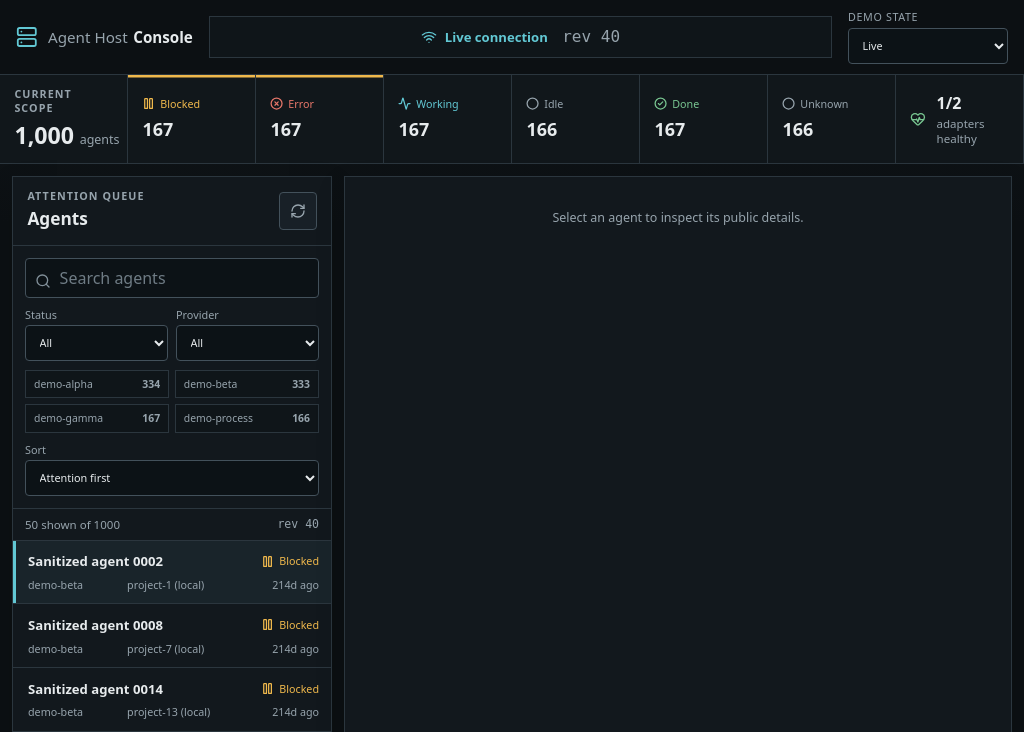
Test case: evaluation dashboard › ignores a stale detail response after selection changes
Click the button "Sanitized agent". click: point(95, 625)
box: [13,604,331,667]
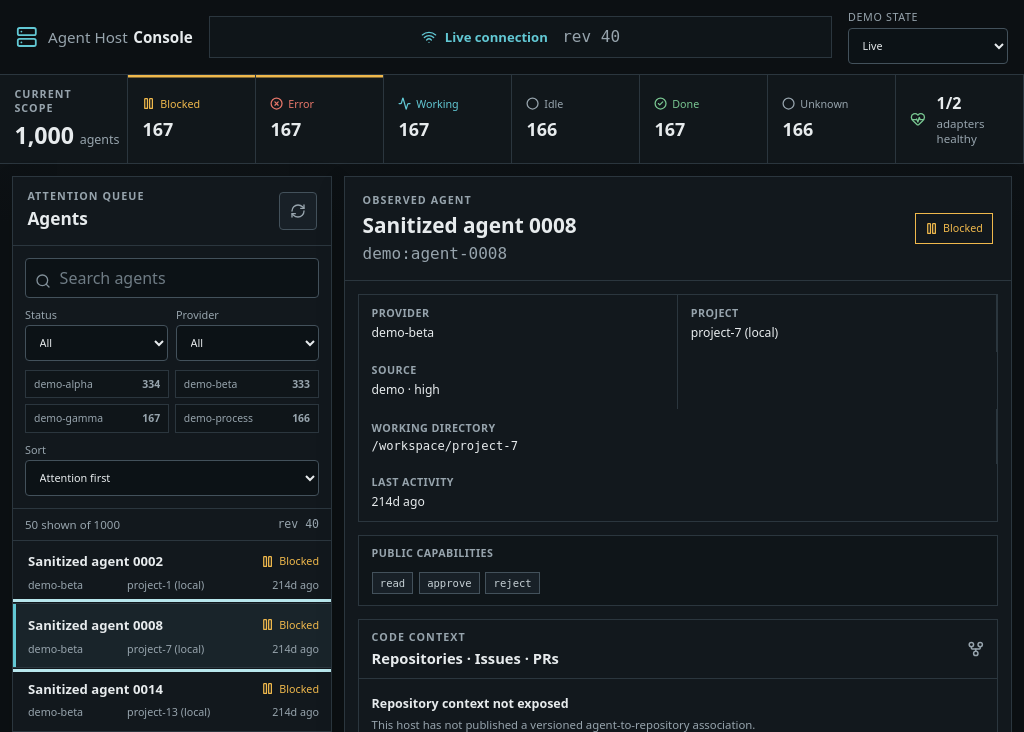
Result: the heading "Sanitized agent 0008" is shown at [363,211,577,239]
